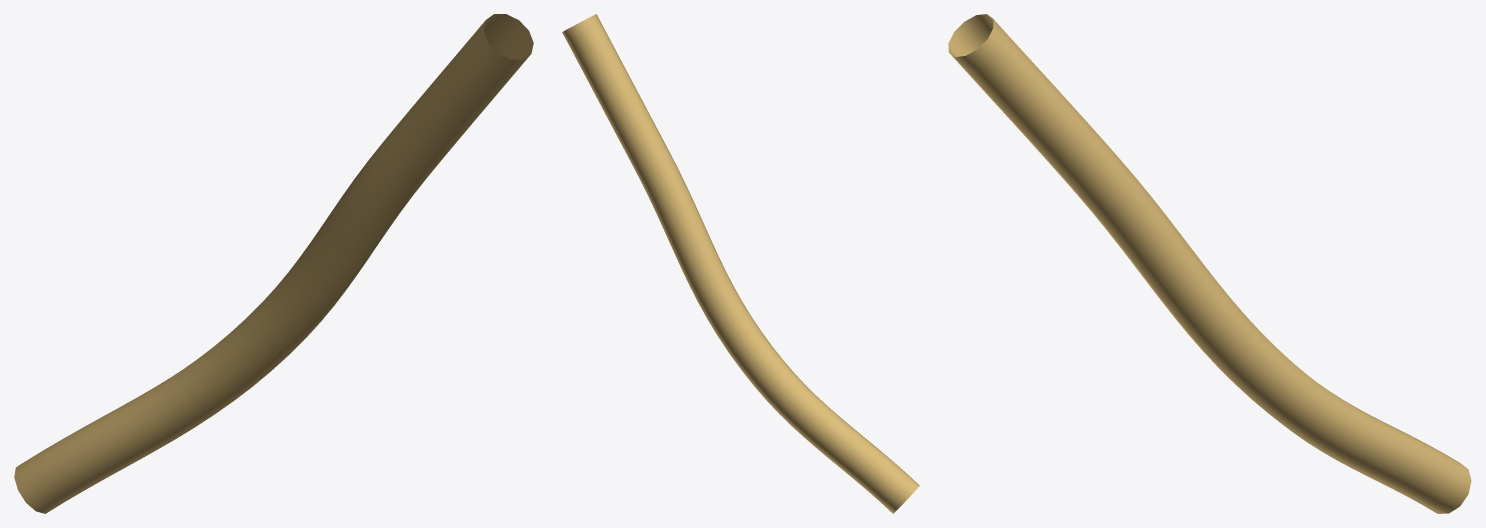
The picture shows the model from 3 angles, left to right: view 1: azimuth 30°, elevation 25°; view 2: azimuth 210°, elevation 25°; view 3: azimuth 270°, elevation 25°; orthographic projection. The views are drawn at different scales.
Parts seen in each view (by area): view 1: 左侧射精管; view 2: 左侧射精管; view 3: 左侧射精管.
Boxes of the visible parts, box(x1,y1,x2,y2) form: 左侧射精管: box(14, 14, 533, 513); 左侧射精管: box(562, 14, 919, 513); 左侧射精管: box(948, 14, 1471, 513).
Bounding box in the file's own units: 0.0133 × 0.0278 × 0.0219.
